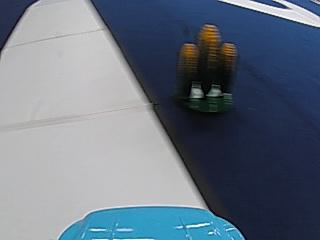corn: (174, 19, 240, 115)
